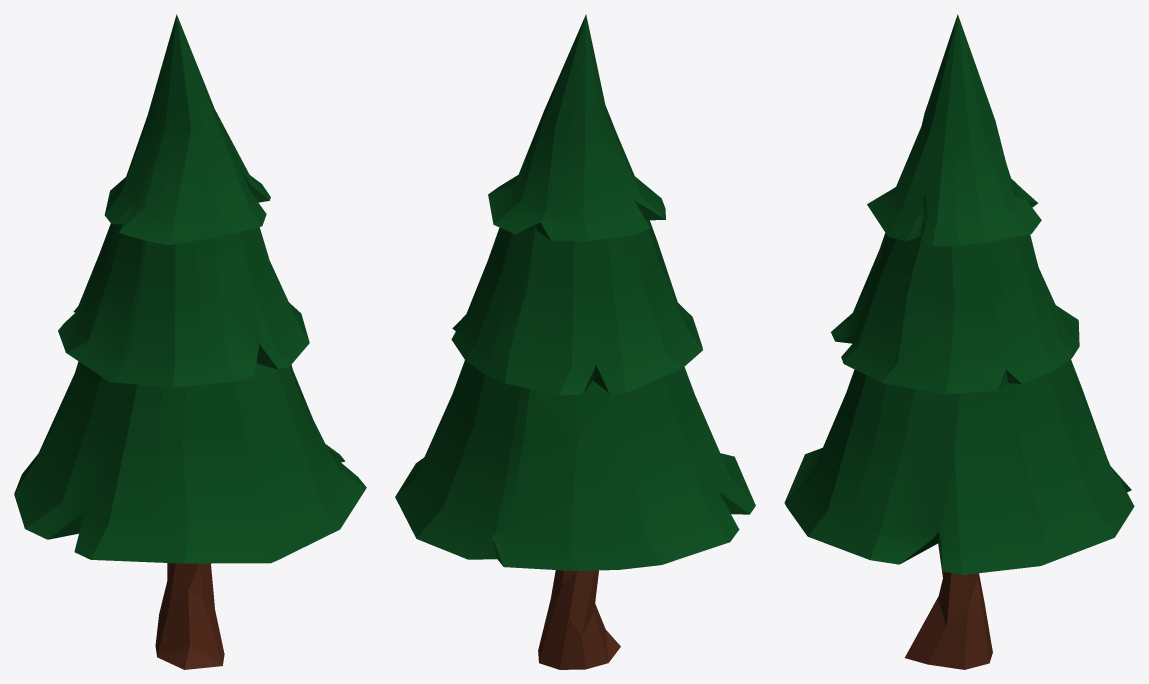
Rendered from Tree_5_Medium.fbx.
The picture shows the model from 3 angles, left to right: view 1: azimuth 30°, elevation 25°; view 2: azimuth 150°, elevation 25°; view 3: azimuth 270°, elevation 25°; orthographic projection.
Visible parts, largest first — view 1: Tree_5_Medium; view 2: Tree_5_Medium; view 3: Tree_5_Medium.
Boxes of the visible parts, bbox=[...] form: Tree_5_Medium: bbox=[14, 14, 366, 669]; Tree_5_Medium: bbox=[395, 14, 755, 669]; Tree_5_Medium: bbox=[784, 14, 1134, 669].
Size of the model in its own units: 109 by 213 by 107.
